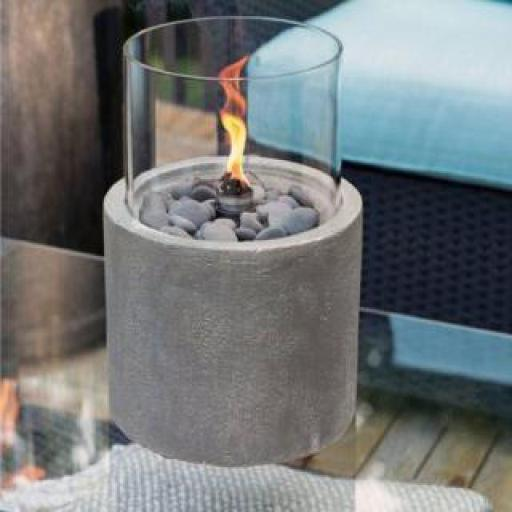smoke: (212, 56, 254, 187)
